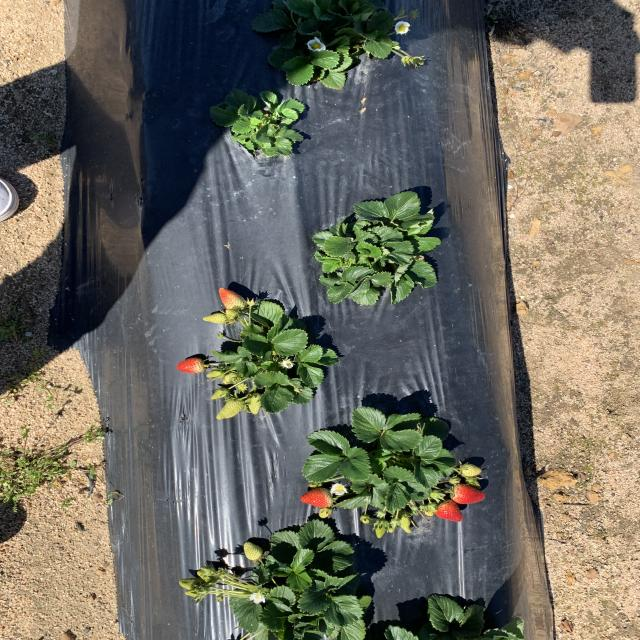unripe: (449, 483, 486, 505), (434, 500, 466, 522), (300, 487, 333, 508), (177, 357, 206, 372)
